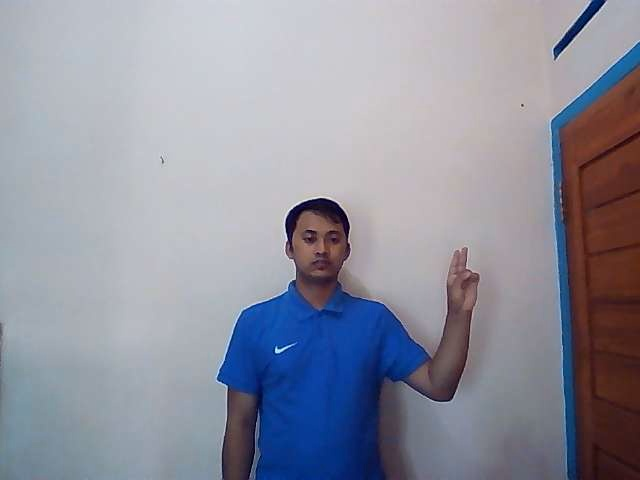U: (445, 245, 480, 312)
